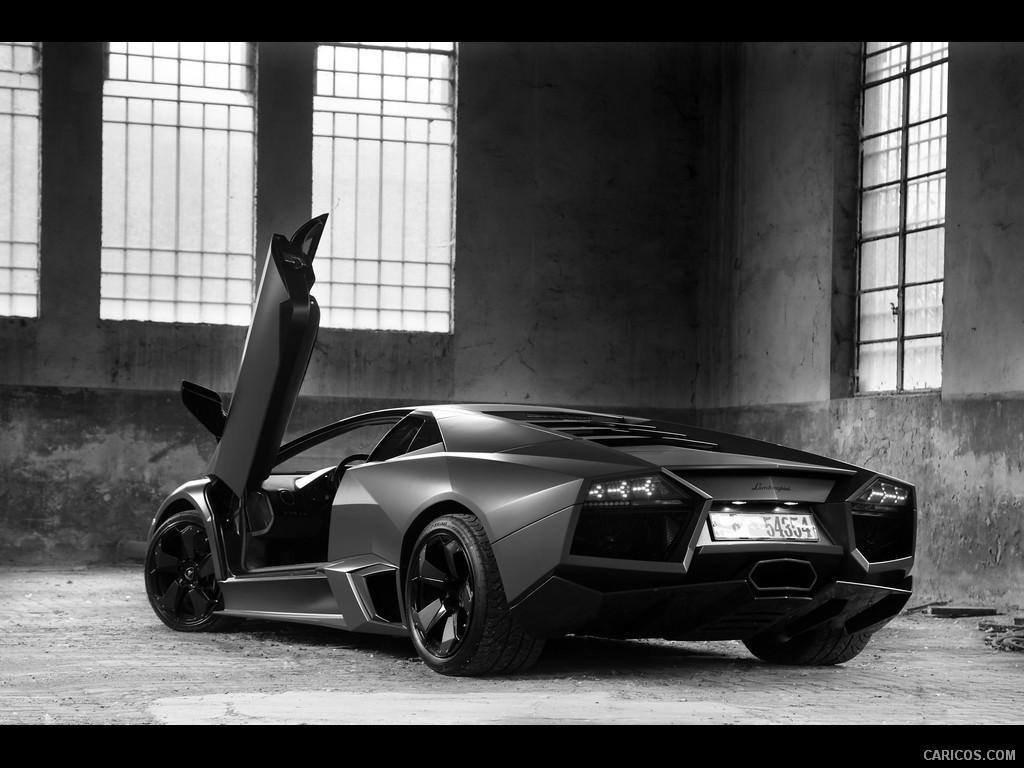car: (137, 391, 926, 675)
